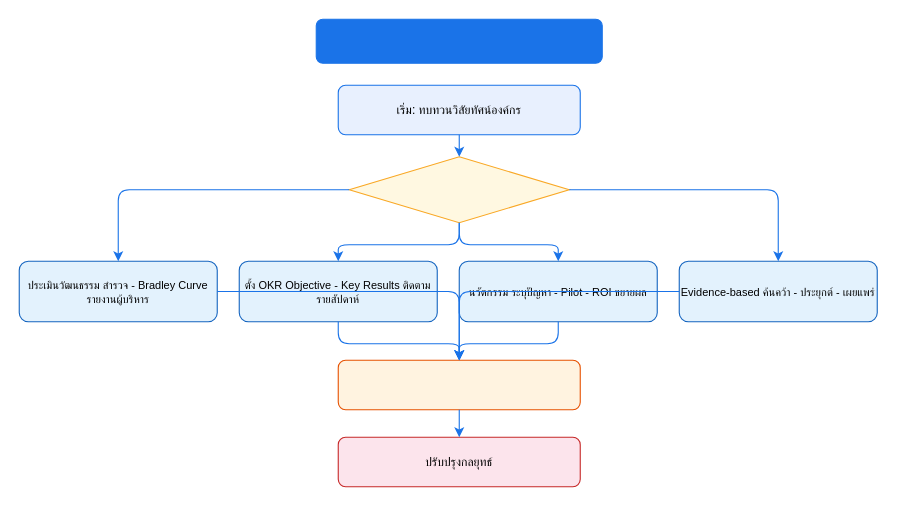
This 897x506 diagram has some shape labels left out. Each missing label, with the centre of its shape:
PM-WI-005: จป.ขั้นสูง: the point at 458,40
กิจกรรมหลัก: the point at 458,189
รายงานประจำปี: the point at 458,384
